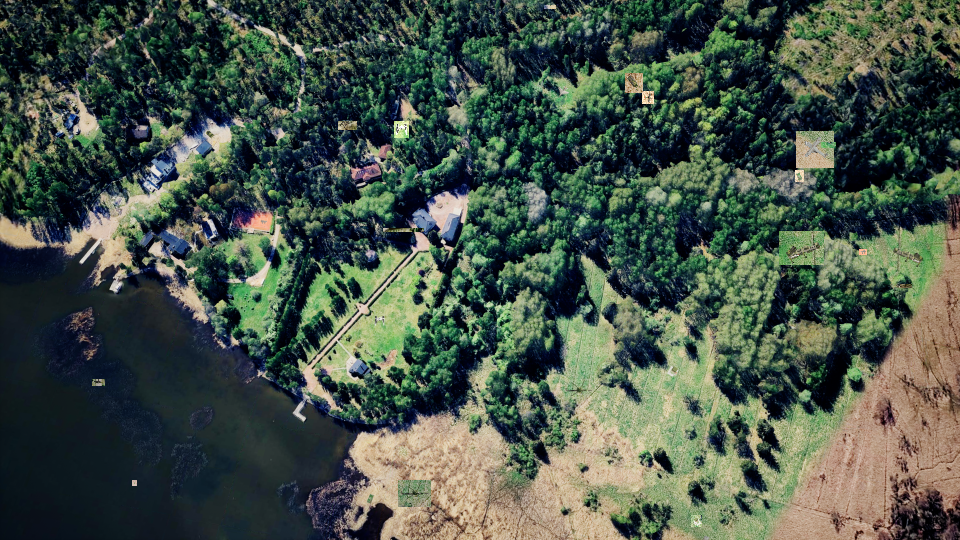condor: (796, 131, 834, 168)
hangar: (383, 228, 424, 232)
helicopter: (398, 480, 431, 507)
jammer: (795, 170, 804, 182)
jet_plane: (821, 142, 836, 148)
large_launcher: (779, 231, 824, 265)
large_tower: (338, 121, 357, 130)
medium_launcher: (900, 284, 912, 288)
medium_plane: (92, 379, 105, 386)
mine_roller: (625, 73, 643, 93)
small_launcher: (132, 480, 137, 486)
small_plane: (642, 91, 654, 104)
small_tower: (691, 515, 702, 527)
spacecraft: (394, 121, 409, 138)
ta-ta: (859, 249, 867, 255)
tank: (544, 5, 556, 9)
